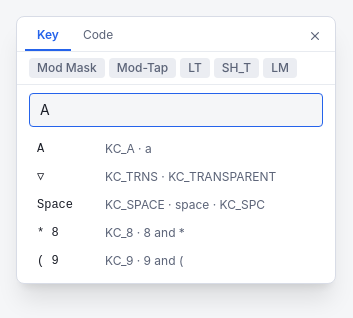
Test: PopoverTabKey — search › shows no results message for unmatched query
The image size is (353, 318).
Replace the text in the field with test id "popover-search-input" with "zzzzz" at {"x": 176, "y": 110}, box [29, 93, 323, 127]
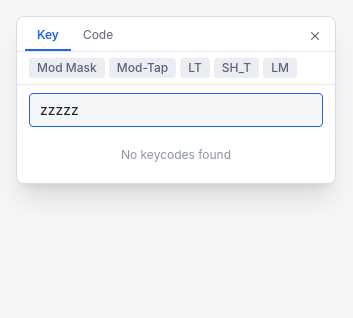
Check: the text "No keycodes found" is shown, box [121, 147, 231, 162]
